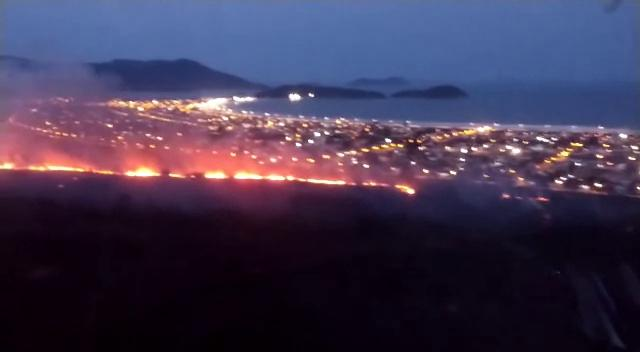fire: (232, 173, 300, 181), (47, 160, 85, 173), (203, 165, 230, 179), (126, 167, 155, 180)
